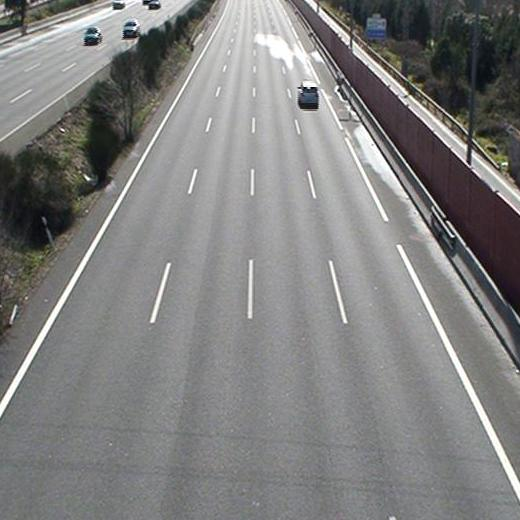car: (297, 81, 319, 109)
